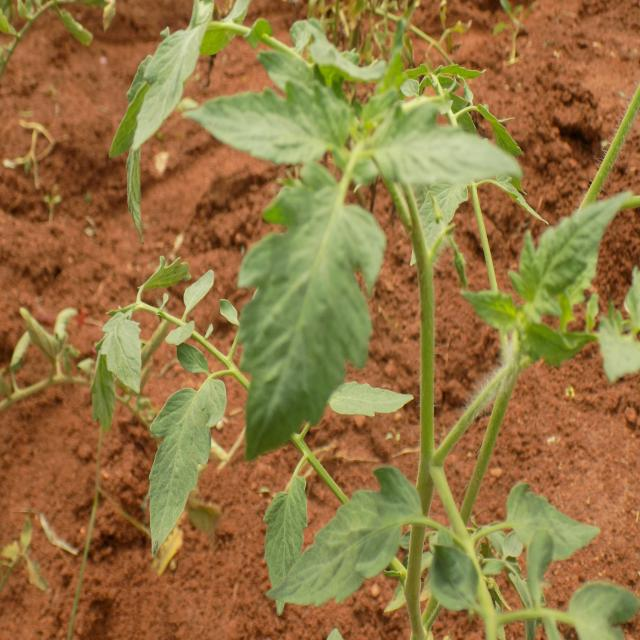tomato_healthy: (240, 159, 385, 460), (270, 465, 410, 603), (186, 82, 356, 160), (150, 381, 222, 552)
